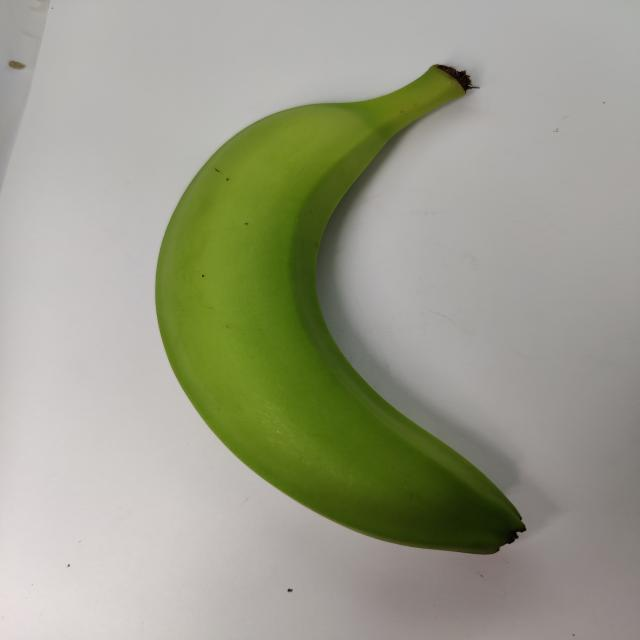raw: (115, 60, 614, 578)
